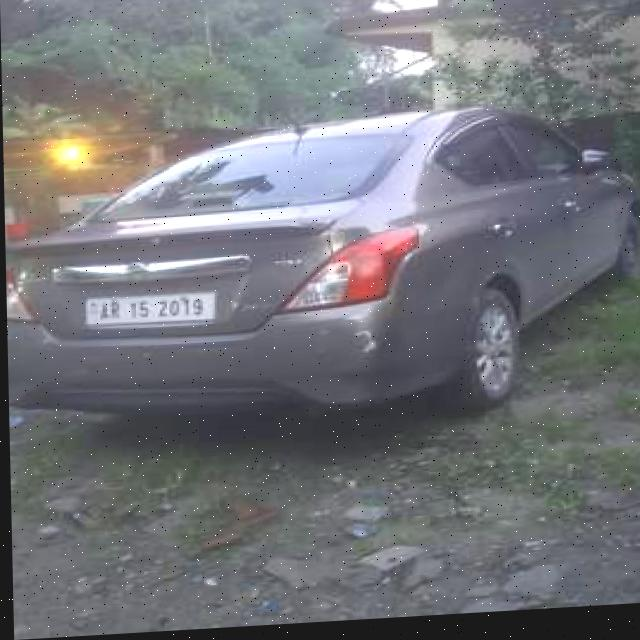plate: (81, 290, 216, 330)
